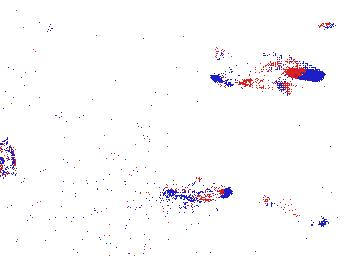red belly glassfish: (162, 182, 232, 203), (276, 59, 326, 82), (305, 19, 336, 32)
redtail glassfish: (257, 190, 331, 228), (211, 67, 291, 97), (213, 46, 249, 71)
